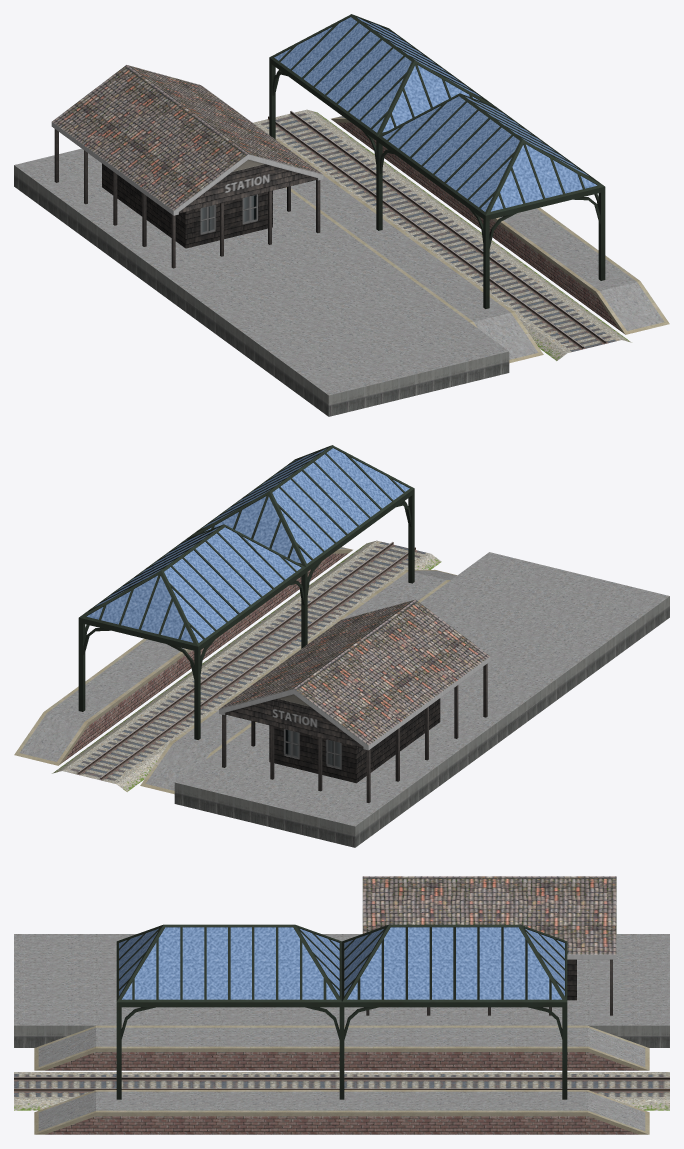
Rendered from Station2.fbx.
3 renders of one model, top to bottom at view 1: azimuth 30°, elevation 25°; view 2: azimuth 150°, elevation 25°; view 3: azimuth 270°, elevation 25°, orthographic. The views are drawn at different scales.
Parts seen in each view (by area): view 1: U3DMesh; view 2: U3DMesh; view 3: U3DMesh.
Boxes of the visible parts, x1,y1,x2,y2 form: U3DMesh: (14, 14, 669, 416); U3DMesh: (14, 445, 669, 847); U3DMesh: (14, 876, 669, 1134).
Size of the model in its own units: 20.6 by 8.98 by 32.
